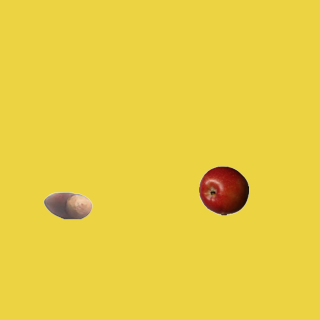Apple Braeburn: (198, 165, 248, 215)
Hazelnut: (42, 180, 92, 230)
